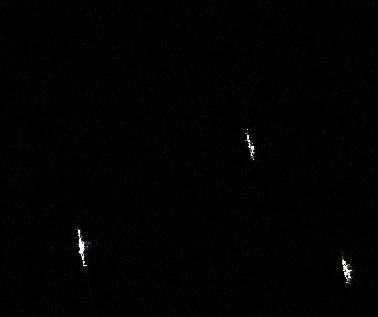ship: (75, 229, 90, 267), (243, 133, 257, 161), (340, 257, 352, 283)
